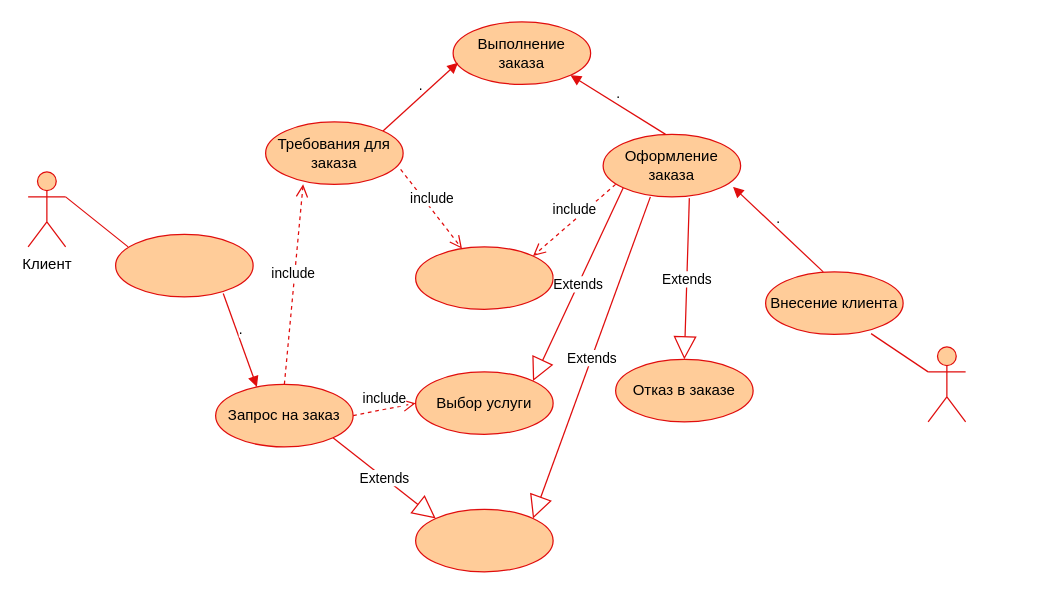
The diagram is 1054 pixels wide and 594 high, and some of its shapes have lost their labels. The shapes that lost their labels are listed below. From the top down, each one's centre as x and y in pixels, then its label:
pixel 183 265: Ввод данных
pixel 483 277: Согласование времени
pixel 946 384: Сотрудник графического редактора
pixel 483 540: Выбор сотрудника
